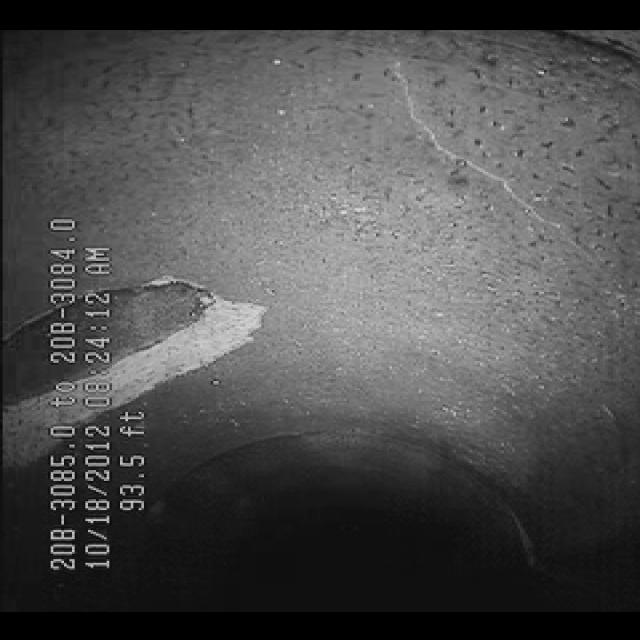Crack: (359, 61, 574, 225)
